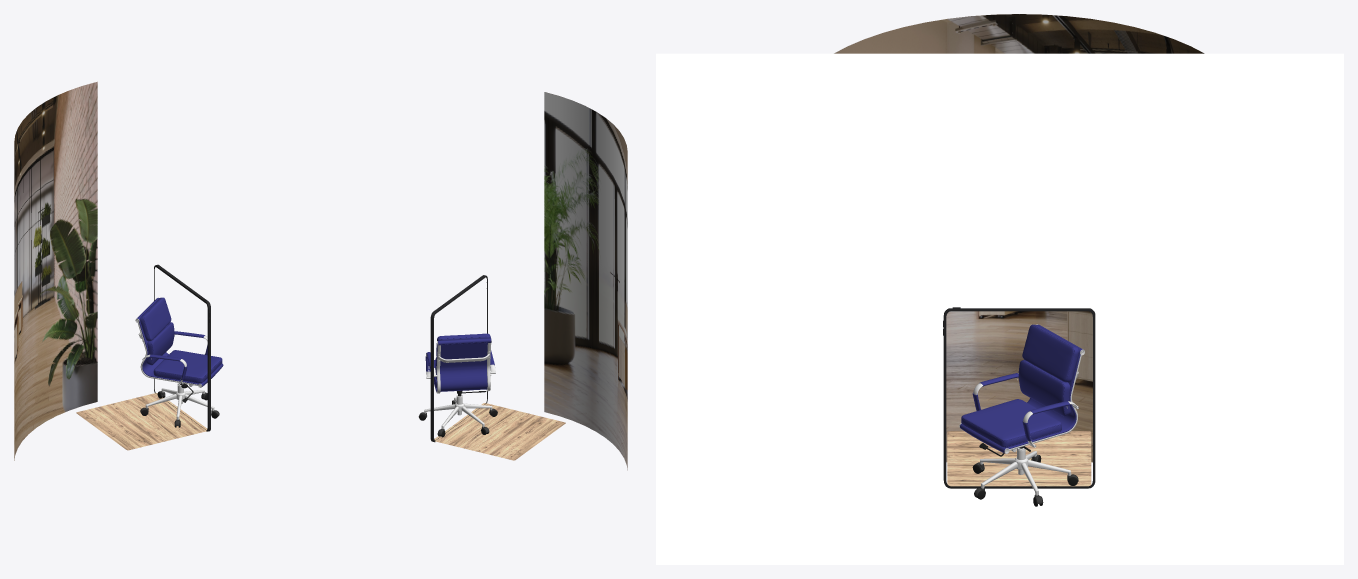
File: Immersive_AR.glb
3 views of the same model, side by side, from view 1: azimuth 30°, elevation 25°; view 2: azimuth 150°, elevation 25°; view 3: azimuth 270°, elevation 25° (orthographic). The views are drawn at different scales.
Visible parts, largest first — view 1: pCylinder1, Plane, Merged Objects, main.body, Group001; view 2: pCylinder1, Plane, Merged Objects, main.body, Group001, Buffer Object; view 3: pPlane1, pCylinder1, Merged Objects, Plane, main.body, Group001.
Part boxes in pixels (left/top/right/bottom): pCylinder1: left=14, top=81, right=97, bottom=460; Plane: left=76, top=393, right=207, bottom=450; Merged Objects: left=136, top=297, right=223, bottom=386; main.body: left=154, top=264, right=210, bottom=431; Group001: left=140, top=383, right=219, bottom=425; pCylinder1: left=544, top=92, right=627, bottom=470; Plane: left=434, top=403, right=565, bottom=460; Merged Objects: left=425, top=333, right=494, bottom=391; main.body: left=430, top=275, right=487, bottom=442; Group001: left=418, top=390, right=497, bottom=435; Buffer Object: left=426, top=338, right=495, bottom=397; pPlane1: left=656, top=53, right=1343, bottom=564; pCylinder1: left=834, top=14, right=1204, bottom=462; Merged Objects: left=960, top=324, right=1082, bottom=453; Plane: left=947, top=431, right=1091, bottom=486; main.body: left=943, top=308, right=1095, bottom=488; Group001: left=972, top=446, right=1078, bottom=503.
Size of the model in its own units: 1.91 by 3.7 by 4.52.
Materials: 17 (7 with a texture image).
